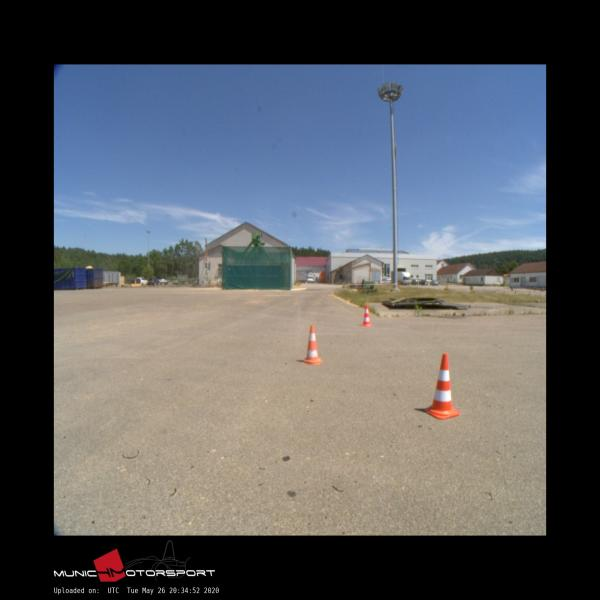large_orange_cone: (424, 354, 459, 418), (302, 326, 322, 365), (360, 305, 372, 325)
